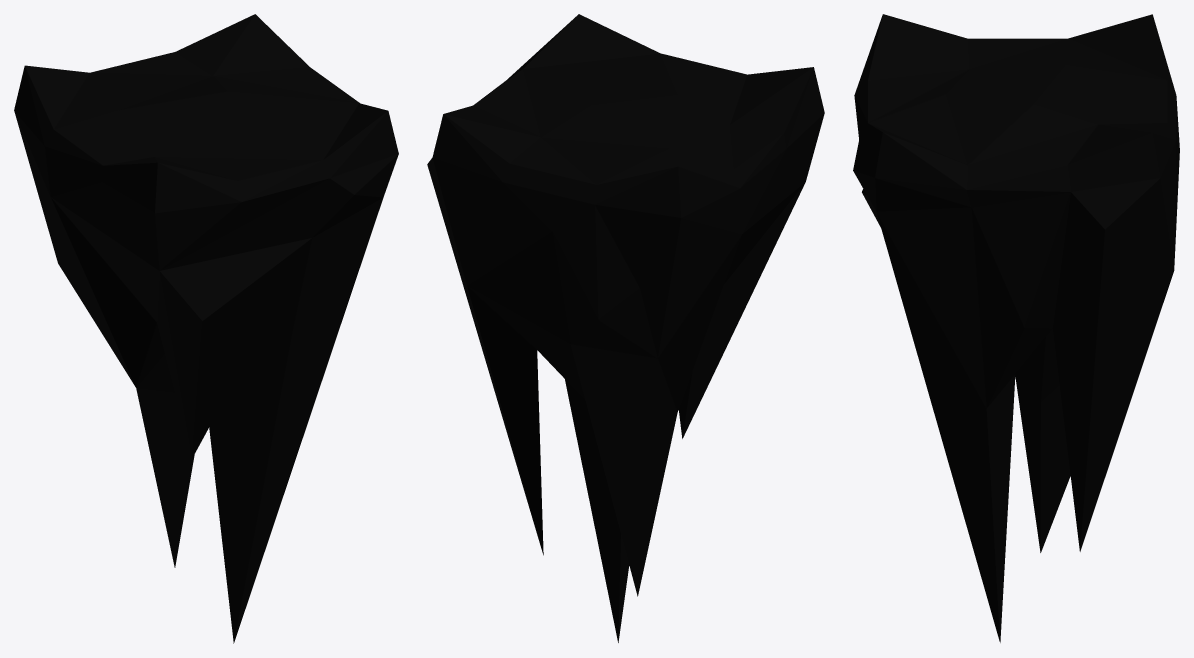
File: desert_plane.FBX
The picture shows the model from 3 angles, left to right: view 1: azimuth 30°, elevation 25°; view 2: azimuth 150°, elevation 25°; view 3: azimuth 270°, elevation 25°; orthographic projection.
Visible parts, largest first — view 1: plane; view 2: plane; view 3: plane.
Boxes of the visible parts, x1,y1,x2,y2 form: plane: [14, 14, 398, 643]; plane: [427, 14, 824, 642]; plane: [853, 14, 1179, 642].
Size of the model in its own units: 39.7 by 72.72 by 38.22.
Materials: 1 (1 with a texture image).
